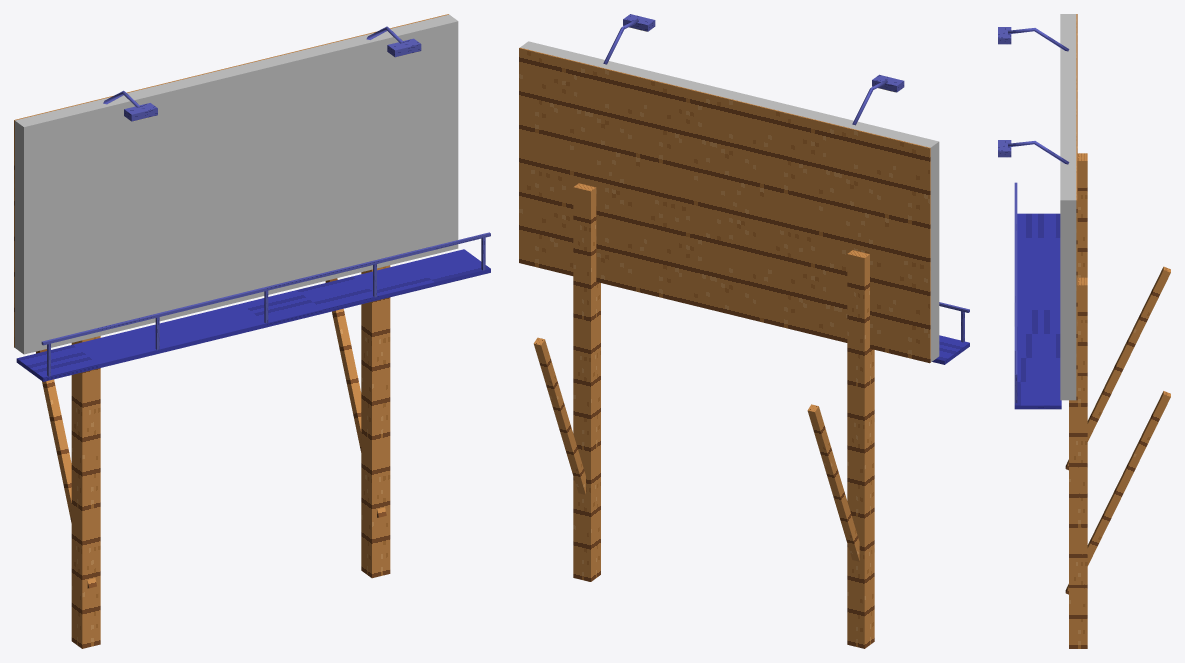
Rendered from Billboard.fbx.
3 renders of one model, left to right at view 1: azimuth 30°, elevation 25°; view 2: azimuth 150°, elevation 25°; view 3: azimuth 270°, elevation 25°, orthographic. The views are drawn at different scales.
Parts seen in each view (by area): view 1: Billboard board, Billboard catwalk, Billboard leg -1, Billboard leg 1, Billboard rail, Billboard brace 1, Billboard brace -1, Billboard back; view 2: Billboard back, Billboard leg 1, Billboard leg -1, Billboard board, Billboard brace -1, Billboard brace 1; view 3: Billboard catwalk, Billboard board, Billboard leg 1, Billboard brace -1, Billboard brace 1, Billboard leg -1, Billboard rail, Billboard back, Billboard lamp arm 1, Billboard lamp arm 0.
Boxes of the visible parts, <box> form: Billboard board: <box>15,14,458,354</box>; Billboard catwalk: <box>16,249,490,381</box>; Billboard leg -1: <box>71,336,100,648</box>; Billboard leg 1: <box>361,265,390,578</box>; Billboard rail: <box>41,232,490,345</box>; Billboard brace 1: <box>325,278,386,517</box>; Billboard brace -1: <box>36,349,96,588</box>; Billboard back: <box>14,14,448,347</box>; Billboard back: <box>519,47,930,363</box>; Billboard leg 1: <box>573,183,600,581</box>; Billboard leg -1: <box>847,250,874,648</box>; Billboard board: <box>520,41,939,362</box>; Billboard brace -1: <box>807,404,859,561</box>; Billboard brace 1: <box>533,337,585,494</box>; Billboard catwalk: <box>1014,213,1061,409</box>; Billboard board: <box>1060,14,1076,400</box>; Billboard leg 1: <box>1069,277,1087,648</box>; Billboard brace -1: <box>1065,266,1170,470</box>; Billboard brace 1: <box>1065,391,1170,594</box>; Billboard leg -1: <box>1077,153,1087,277</box>; Billboard rail: <box>1014,182,1017,377</box>; Billboard back: <box>1076,14,1077,400</box>; Billboard lamp arm 1: <box>1008,141,1069,164</box>; Billboard lamp arm 0: <box>1008,28,1069,51</box>.
Size of the model in its own units: 6.8 by 8.23 by 2.59.
